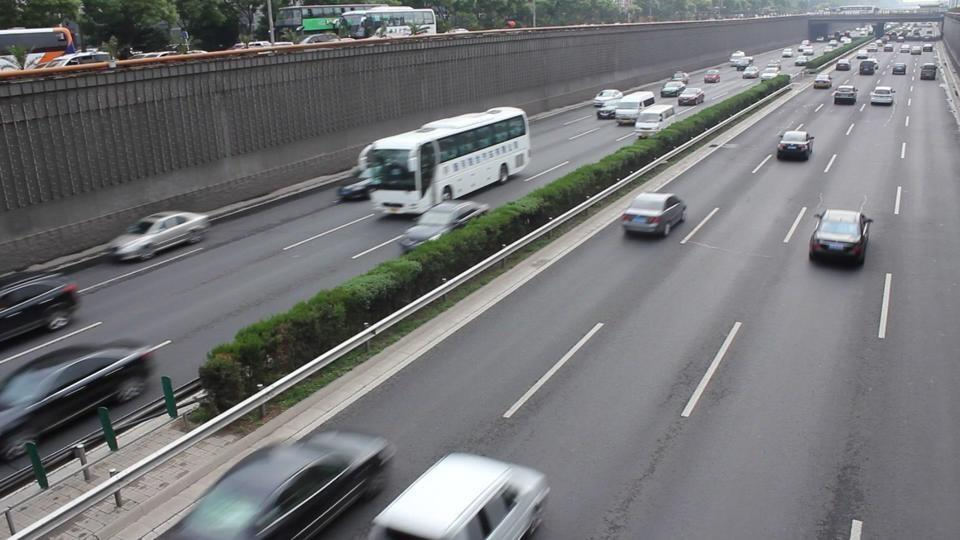car: (163, 428, 398, 539), (0, 345, 154, 466), (367, 451, 552, 539), (0, 274, 81, 342), (107, 211, 211, 262), (399, 198, 489, 253), (808, 207, 873, 266), (619, 192, 689, 237), (27, 51, 117, 72), (609, 91, 654, 125), (336, 168, 379, 202), (632, 104, 676, 136), (776, 129, 815, 162), (594, 88, 623, 107), (833, 84, 858, 106), (870, 85, 895, 106), (677, 88, 705, 106), (659, 80, 686, 97), (858, 59, 878, 76), (920, 63, 937, 81), (0, 56, 19, 72), (703, 68, 721, 84), (813, 75, 833, 89), (891, 60, 908, 75), (834, 59, 852, 71)
